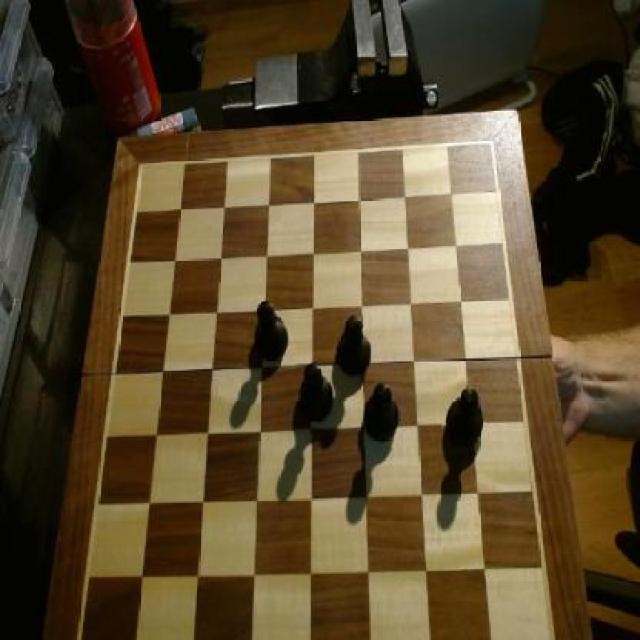black-knight: (443, 386, 488, 459), (295, 363, 338, 439), (363, 382, 400, 449), (251, 299, 288, 366), (336, 314, 372, 380)
